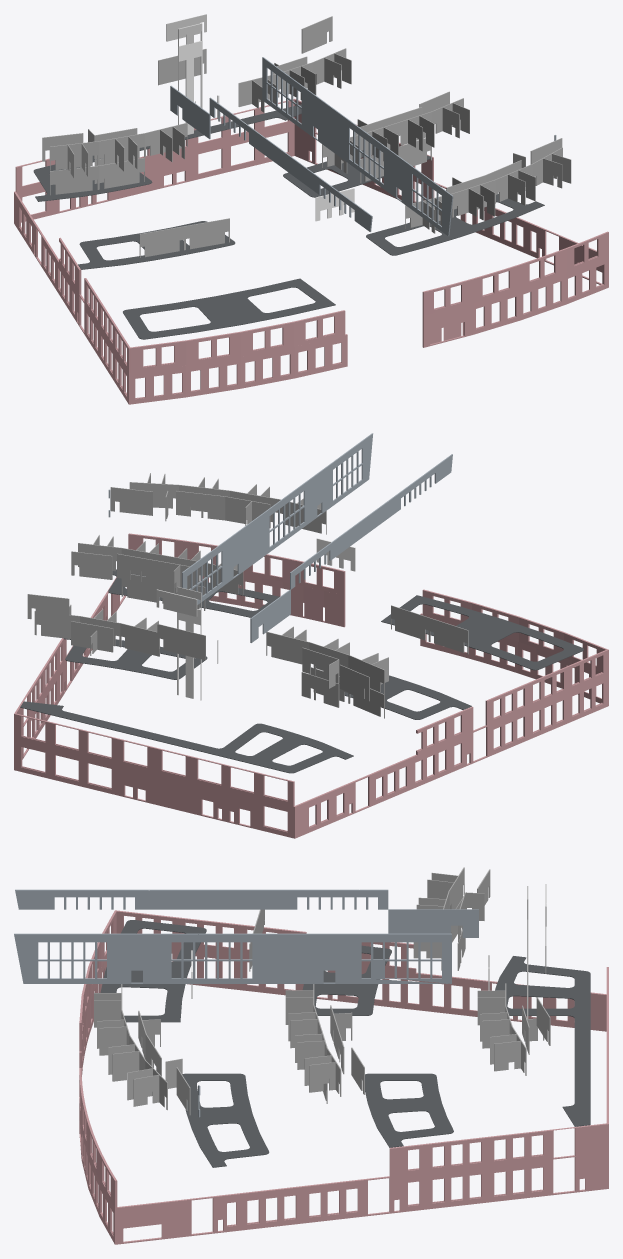
3 views of the same model, one above another, from view 1: azimuth 30°, elevation 25°; view 2: azimuth 150°, elevation 25°; view 3: azimuth 270°, elevation 25° (orthographic). The views are drawn at different scales.
Parts seen in each view (by area): view 1: 1IjDNnD1b6tenKMZR0qHo2, 1IjDNnD1b6tenKMZR0qHnz, 1IjDNnD1b6tenKMZJ0qEE3, 1IjDNnD1b6tenKMZR0qHn$, 1IjDNnD1b6tenKKZV0qHkV, 1IjDNnD1b6tenKKZV0qEvg, 1IjDNnD1b6tenKMZR0qHn_, 1IjDNnD1b6tenKMZR0qHkL, 1IjDNnD1b6tenKMZR0qHny, 1IjDNnD1b6tenKKZJ0qEvg, 1IjDNnD1b6tenKKZJ0qEva, 1IjDNnD1b6tenKMZJ0qE6b (+21 smaller); view 2: 1IjDNnD1b6tenKMZR0qHn_, 1IjDNnD1b6tenKMZR0qHn$, 1IjDNnD1b6tenKMZJ0qE7U, 1IjDNnD1b6tenKKZV0qHkn, 1IjDNnD1b6tenKKZV0qEvg, 1IjDNnD1b6tenKKZV0qHko, 1IjDNnD1b6tenKMZJ0qEE3, 1IjDNnD1b6tenKKZJ0qEvg, 1IjDNnD1b6tenKMZR0qHnz, 1IjDNnD1b6tenKKZJ0qEva, 1IjDNnD1b6tenKMZR0qHkL, 1IjDNnD1b6tenKKZV0qHkV (+29 smaller); view 3: 1IjDNnD1b6tenKMZR0qHny, 1IjDNnD1b6tenKKZV0qEvg, 1IjDNnD1b6tenKKZJ0qEvg, 1IjDNnD1b6tenKKZJ0qEva, 1IjDNnD1b6tenKMZR0qHn_, 1IjDNnD1b6tenKMZJ0qE7U, 1IjDNnD1b6tenKKZV0qHkJ, 1IjDNnD1b6tenKMZJ0qE6b, 1IjDNnD1b6tenKMZJ0qE71, 1IjDNnD1b6tenKMZJ0qEE3, 1IjDNnD1b6tenKKZV0qHko, 1IjDNnD1b6tenKKZV0qEvb (+16 smaller).
Boxes of the visible parts, left/top/right/bottom form: 1IjDNnD1b6tenKMZR0qHo2: left=128, top=334, right=347, bottom=404; 1IjDNnD1b6tenKMZR0qHnz: left=422, top=256, right=608, bottom=347; 1IjDNnD1b6tenKMZJ0qEE3: left=123, top=278, right=335, bottom=339; 1IjDNnD1b6tenKMZR0qHn$: left=14, top=124, right=294, bottom=223; 1IjDNnD1b6tenKKZV0qHkV: left=130, top=310, right=345, bottom=372; 1IjDNnD1b6tenKKZV0qEvg: left=262, top=75, right=451, bottom=236; 1IjDNnD1b6tenKMZR0qHn_: left=14, top=192, right=128, bottom=403; 1IjDNnD1b6tenKMZR0qHkL: left=422, top=231, right=608, bottom=315; 1IjDNnD1b6tenKMZR0qHny: left=294, top=124, right=602, bottom=284; 1IjDNnD1b6tenKKZJ0qEvg: left=262, top=57, right=453, bottom=212; 1IjDNnD1b6tenKKZJ0qEva: left=209, top=97, right=372, bottom=231; 1IjDNnD1b6tenKMZJ0qE6b: left=366, top=194, right=544, bottom=255; 1IjDNnD1b6tenKMZR0qHn_: left=295, top=675, right=607, bottom=837; 1IjDNnD1b6tenKMZR0qHn$: left=15, top=739, right=296, bottom=838; 1IjDNnD1b6tenKMZJ0qE7U: left=20, top=701, right=353, bottom=773; 1IjDNnD1b6tenKKZV0qHkn: left=14, top=713, right=294, bottom=806; 1IjDNnD1b6tenKKZV0qEvg: left=186, top=452, right=371, bottom=604; 1IjDNnD1b6tenKKZV0qHko: left=416, top=649, right=608, bottom=754; 1IjDNnD1b6tenKMZJ0qEE3: left=381, top=595, right=583, bottom=670; 1IjDNnD1b6tenKKZJ0qEvg: left=182, top=433, right=373, bottom=588; 1IjDNnD1b6tenKMZR0qHnz: left=200, top=574, right=345, bottom=627; 1IjDNnD1b6tenKKZJ0qEva: left=290, top=454, right=452, bottom=589; 1IjDNnD1b6tenKMZR0qHkL: left=128, top=533, right=345, bottom=595; 1IjDNnD1b6tenKKZV0qHkV: left=422, top=589, right=606, bottom=672; 1IjDNnD1b6tenKMZR0qHny: left=117, top=1152, right=608, bottom=1244; 1IjDNnD1b6tenKKZV0qEvg: left=18, top=954, right=451, bottom=983; 1IjDNnD1b6tenKKZJ0qEvg: left=14, top=933, right=451, bottom=954; 1IjDNnD1b6tenKKZJ0qEva: left=15, top=889, right=388, bottom=909; 1IjDNnD1b6tenKMZR0qHn_: left=171, top=946, right=606, bottom=1031; 1IjDNnD1b6tenKMZJ0qE7U: left=495, top=956, right=590, bottom=1126; 1IjDNnD1b6tenKKZV0qHkJ: left=389, top=1123, right=606, bottom=1176; 1IjDNnD1b6tenKMZJ0qE6b: left=182, top=1073, right=269, bottom=1167; 1IjDNnD1b6tenKMZJ0qE71: left=365, top=1073, right=453, bottom=1147; 1IjDNnD1b6tenKMZJ0qEE3: left=100, top=920, right=206, bottom=1022; 1IjDNnD1b6tenKKZV0qHko: left=114, top=910, right=416, bottom=973; 1IjDNnD1b6tenKKZV0qEvb: left=388, top=909, right=478, bottom=937.
Size of the model in its own units: 99.8 by 37.51 by 93.02.
